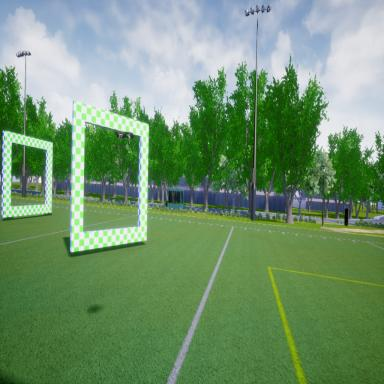gate: (69, 98, 150, 257), (1, 127, 56, 225)
